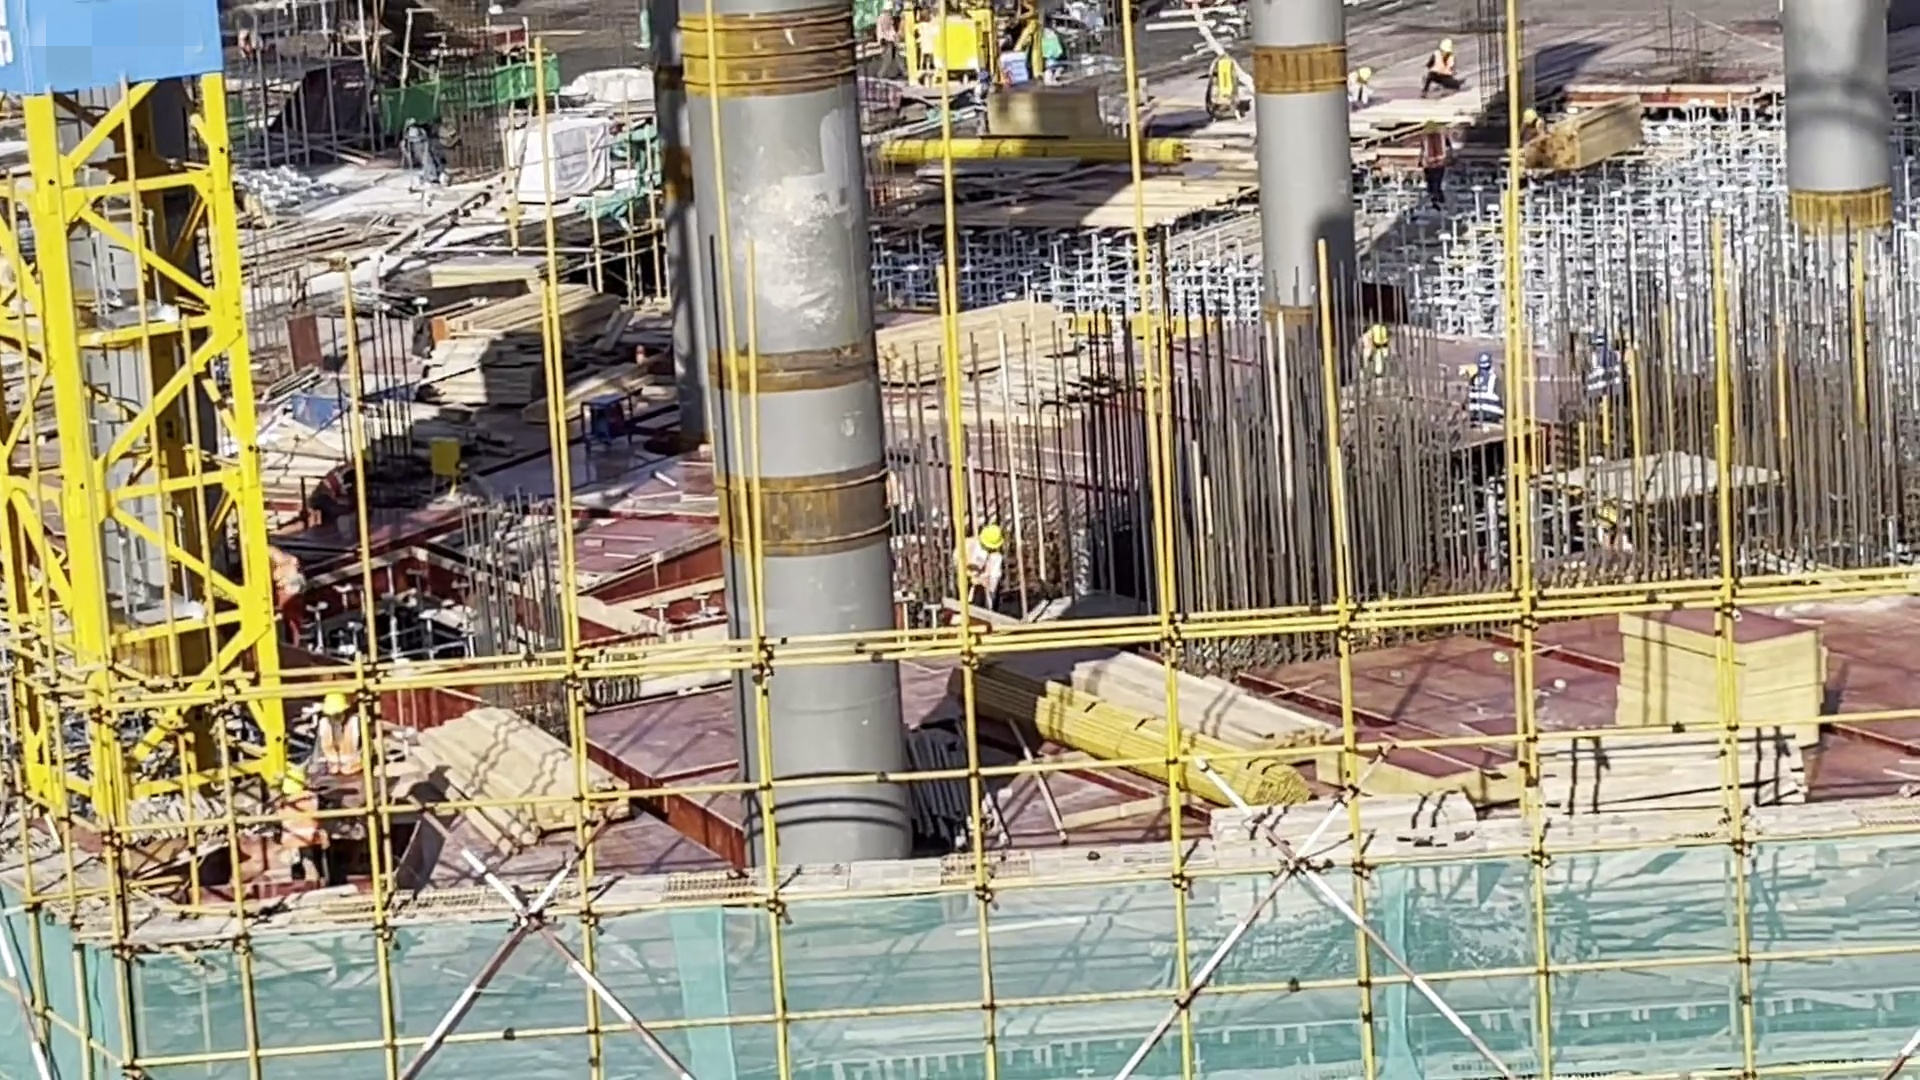helmet: (976, 517, 1004, 547), (1361, 328, 1392, 345), (1478, 345, 1499, 370), (1438, 39, 1459, 64), (1520, 103, 1540, 128), (322, 693, 347, 709)
person: (311, 697, 377, 827), (957, 511, 1015, 614), (1418, 118, 1467, 209), (1464, 353, 1510, 428), (1414, 30, 1468, 94), (1348, 321, 1395, 387)
vest: (315, 713, 377, 765), (958, 542, 1003, 593), (1473, 378, 1500, 420), (1429, 140, 1451, 164), (1433, 48, 1452, 70)
